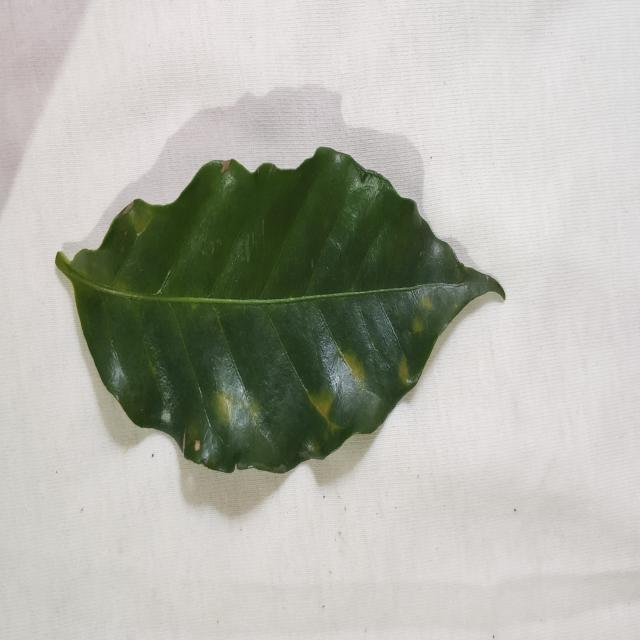Enfermedad-Roya: (54, 148, 506, 477)
